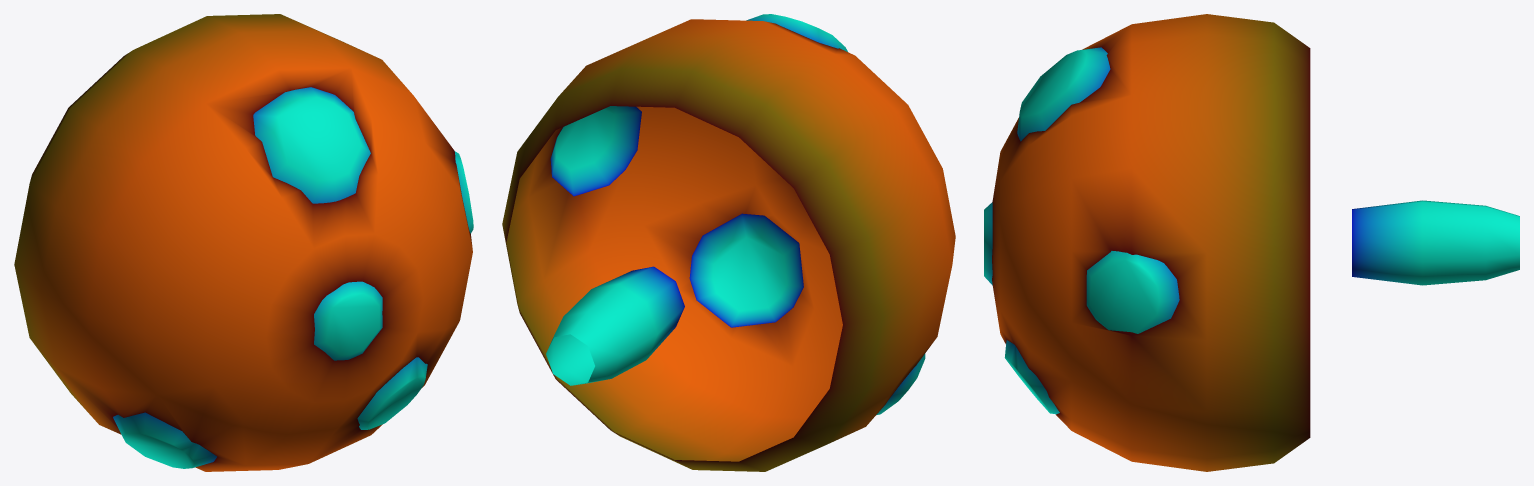
The model's file is Mushroom.fbx.
3 renders of one model, left to right at view 1: azimuth 30°, elevation 25°; view 2: azimuth 150°, elevation 25°; view 3: azimuth 270°, elevation 25°, orthographic.
Visible parts, largest first — view 1: Mushroom; view 2: Mushroom; view 3: Mushroom.
Part boxes in pixels (x1=…): Mushroom: x1=14, y1=14, x2=473, y2=471; Mushroom: x1=502, y1=14, x2=955, y2=471; Mushroom: x1=984, y1=14, x2=1519, y2=471.
Bounding box in the file's own units: 1.85 × 1.85 × 2.16.
